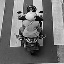mobil: (12, 7, 55, 51)
